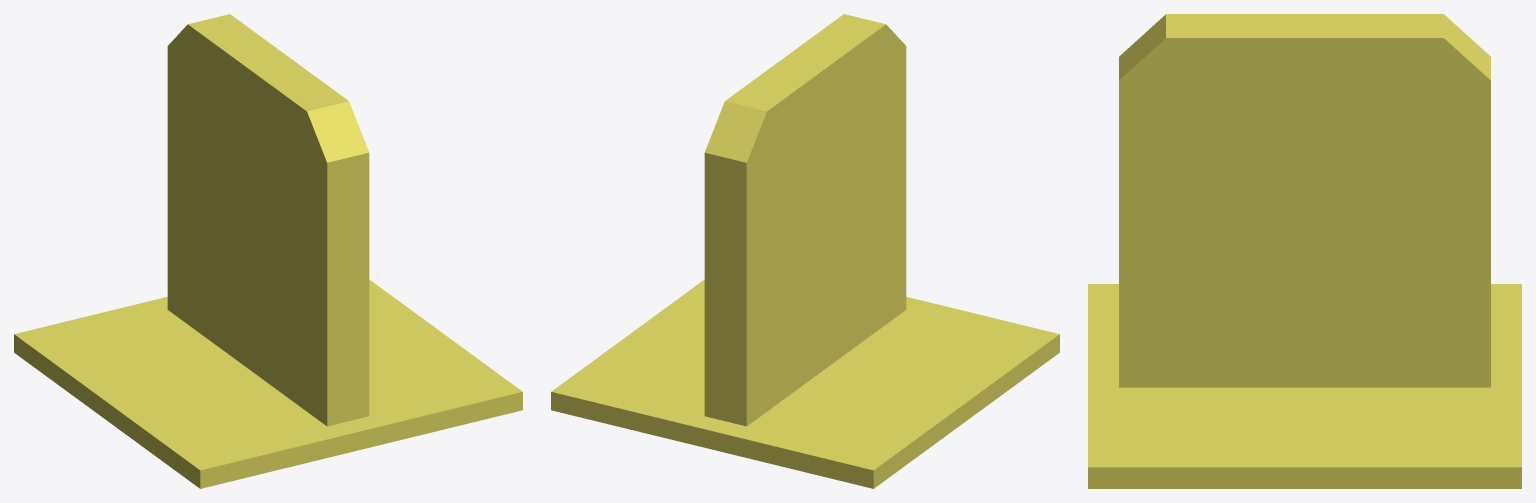
The model's file is gate.fbx.
3 renders of one model, left to right at view 1: azimuth 30°, elevation 25°; view 2: azimuth 150°, elevation 25°; view 3: azimuth 270°, elevation 25°, orthographic. The views are drawn at different scales.
Visible parts, largest first — view 1: door, door_base; view 2: door, door_base; view 3: door, door_base.
Part boxes in pixels (x1,y1,x2,y2): door: (167,14,369,426); door_base: (14,279,522,488); door: (704,14,906,426); door_base: (551,279,1059,488); door: (1119,14,1490,387); door_base: (1088,284,1521,488).
Size of the model in its own units: 200 by 189 by 200.
